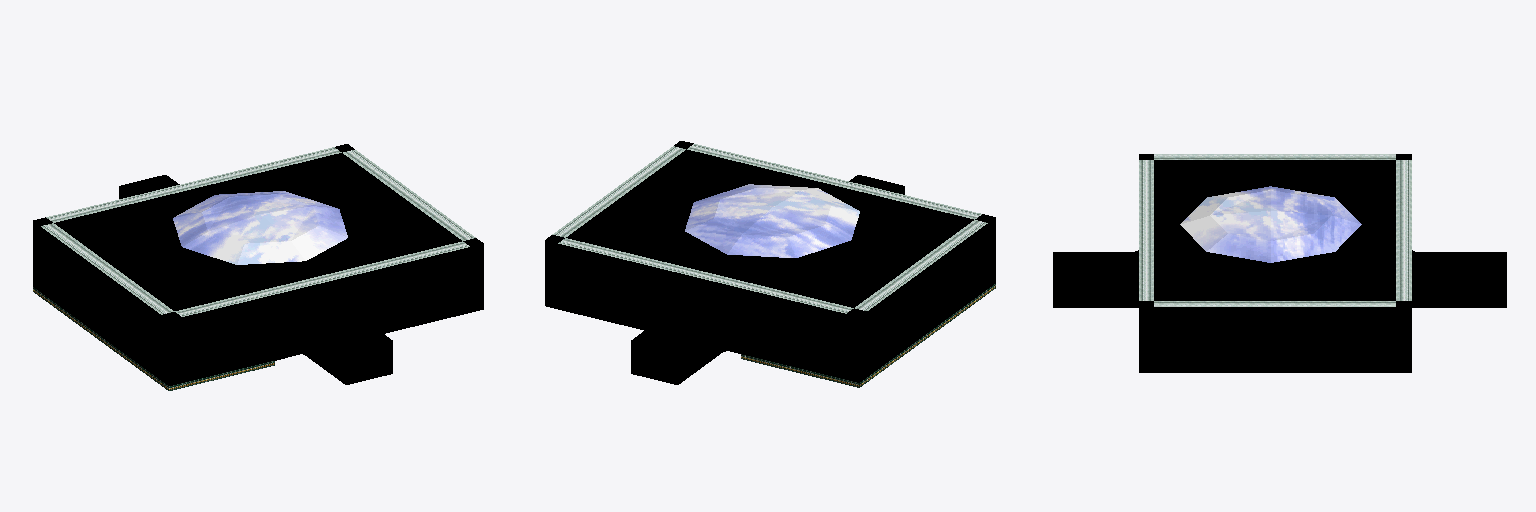
3 views of the same model, side by side, from view 1: azimuth 30°, elevation 25°; view 2: azimuth 150°, elevation 25°; view 3: azimuth 270°, elevation 25° (orthographic).
Visible parts, largest first — view 1: object_0000B098, object_00004F68, object_00010DFC, object_[number redacted], object_[number redacted], object_00010A74; view 2: object_0000B098, object_00004F68, object_00010A74, object_[number redacted]; view 3: object_0000B098, object_00004F68, object_00010A74, object_00010DFC.
Part boxes in pixels (x1,y1,x2,y2): object_0000B098: (33, 144, 483, 319); object_00004F68: (33, 221, 483, 385); object_00010DFC: (304, 310, 392, 384); object_[number redacted]: (33, 287, 274, 390); object_[number redacted]: (346, 341, 392, 384); object_00010A74: (119, 175, 179, 198); object_0000B098: (545, 141, 995, 316); object_00004F68: (545, 218, 995, 382); object_00010A74: (631, 307, 723, 384); object_[number redacted]: (741, 284, 995, 387); object_0000B098: (1139, 154, 1411, 306); object_00004F68: (1139, 307, 1411, 372); object_00010A74: (1412, 252, 1506, 307); object_00010DFC: (1053, 252, 1138, 307).
Size of the model in its own units: 400 by 110 by 500.
Materials: 35 (9 with a texture image).